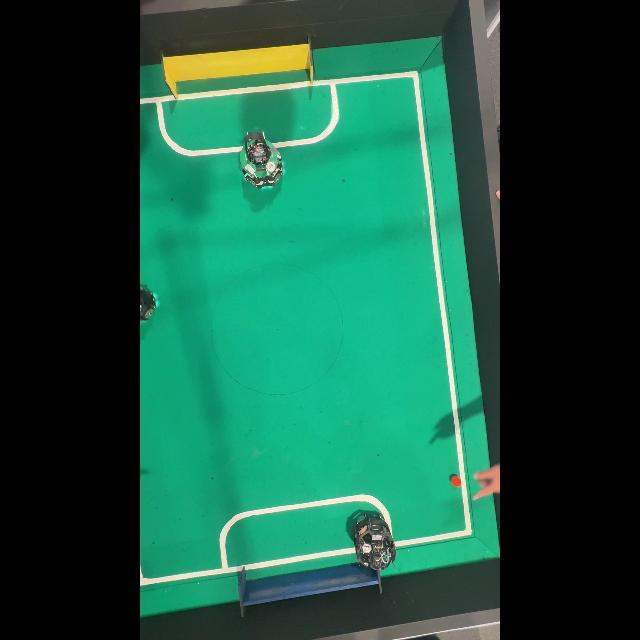ball: (451, 475, 461, 487)
goal: (162, 41, 313, 98), (238, 563, 378, 617)
robot: (353, 513, 396, 592), (240, 132, 282, 189), (140, 286, 156, 321)
